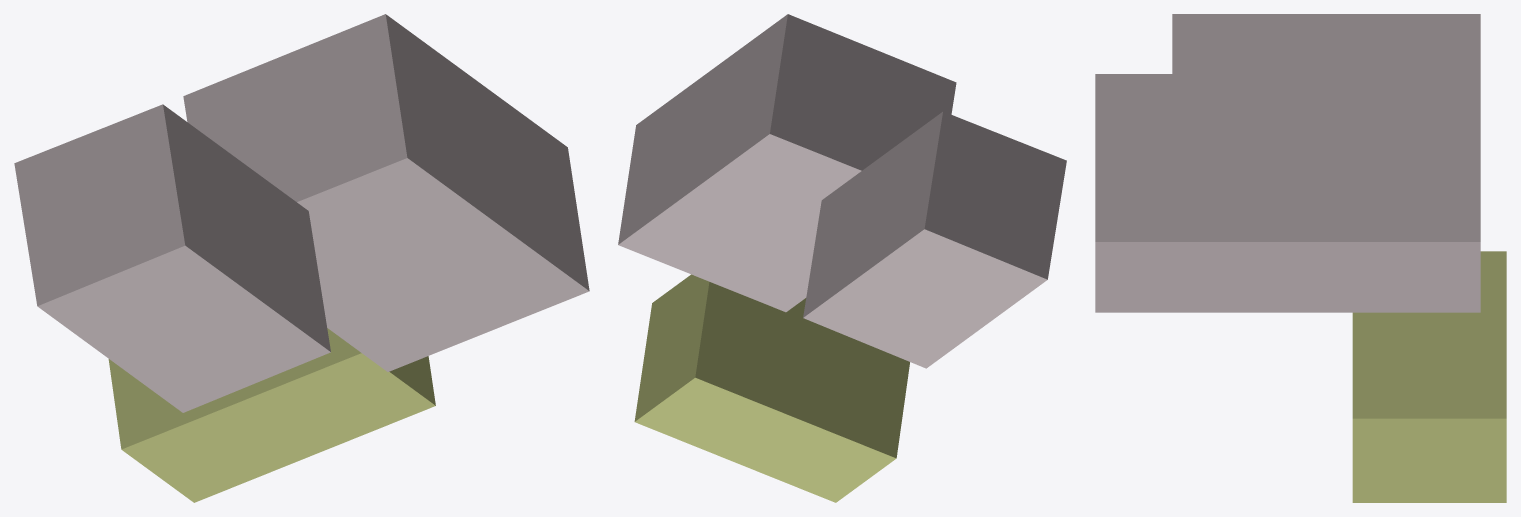
3 views of the same model, side by side, from view 1: azimuth 30°, elevation 25°; view 2: azimuth 150°, elevation 25°; view 3: azimuth 270°, elevation 25° (orthographic). The views are drawn at different scales.
Parts seen in each view (by area): view 1: 0_1_2_3_3_3_3_3_0_3; view 2: 0_1_2_3_3_3_3_3_0_3; view 3: 0_1_2_3_3_3_3_3_0_3.
Part boxes in pixels (x1,y1,x2,y2): 0_1_2_3_3_3_3_3_0_3: [14, 14, 589, 502]; 0_1_2_3_3_3_3_3_0_3: [618, 14, 1066, 502]; 0_1_2_3_3_3_3_3_0_3: [1095, 14, 1506, 502].
Bounding box in the file's own units: 18.68 × 17.4 × 16.01.
